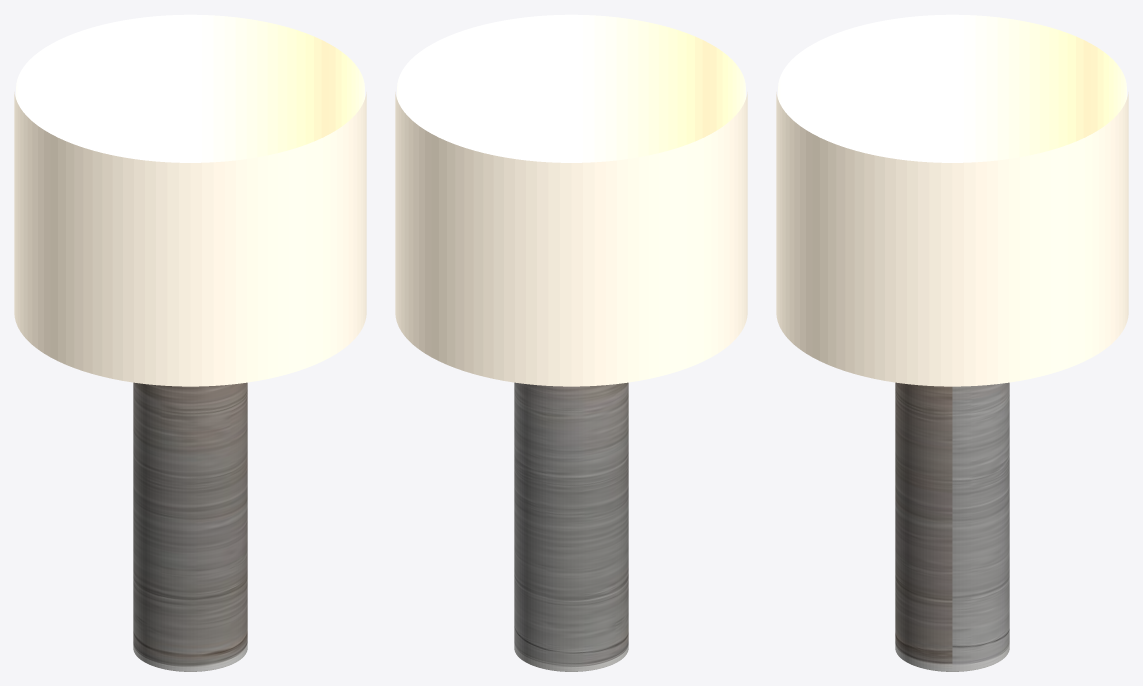
File: eleanor.glb
3 views of the same model, side by side, from view 1: azimuth 30°, elevation 25°; view 2: azimuth 150°, elevation 25°; view 3: azimuth 270°, elevation 25° (orthographic).
Visible parts, largest first — view 1: p4, p5, p0; view 2: p4, p5, p0; view 3: p4, p5, p0.
Boxes of the visible parts, x1,y1,x2,y2 form: p4: (14, 92, 366, 386); p5: (16, 14, 364, 162); p0: (133, 382, 247, 671); p4: (395, 92, 747, 386); p5: (397, 14, 745, 162); p0: (514, 382, 628, 671); p4: (776, 92, 1128, 386); p5: (778, 14, 1126, 162); p0: (895, 382, 1009, 671).
Bounding box in the file's own units: 0.4 × 0.7002 × 0.4.
5 materials, 1 textured.
